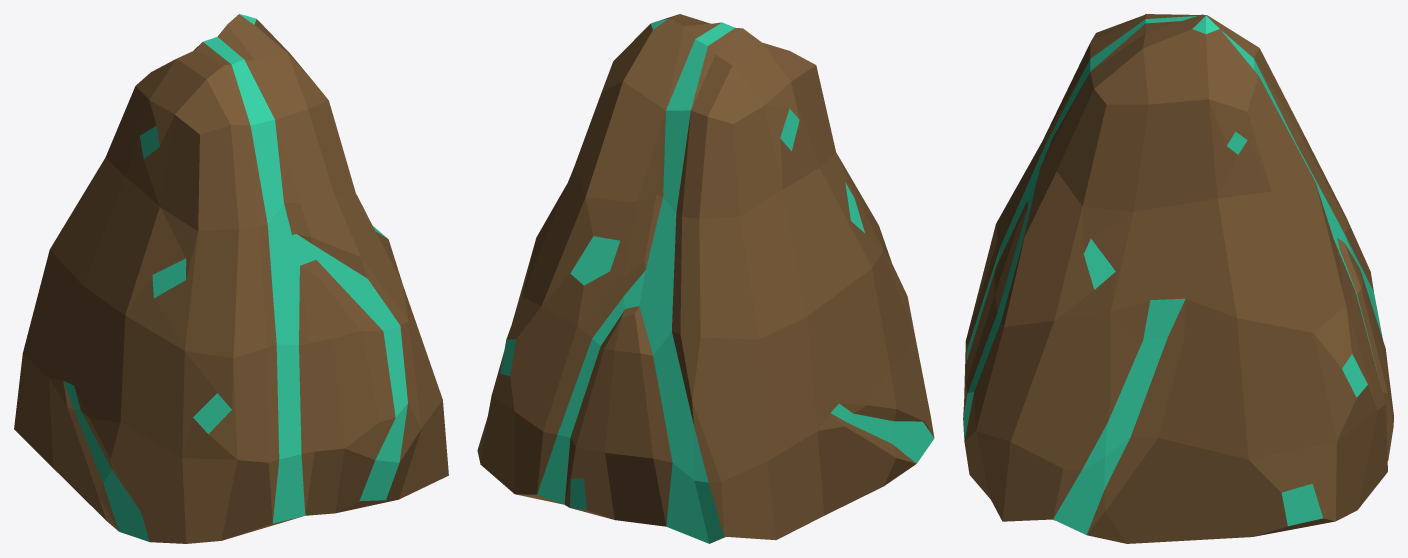
File: MalachiteRock.glb
3 views of the same model, side by side, from view 1: azimuth 30°, elevation 25°; view 2: azimuth 150°, elevation 25°; view 3: azimuth 270°, elevation 25° (orthographic). The views are drawn at different scales.
Visible parts, largest first — view 1: MalachiteRock; view 2: MalachiteRock; view 3: MalachiteRock.
Boxes of the visible parts, <box> form: MalachiteRock: <box>14,14,448,543</box>; MalachiteRock: <box>477,14,934,543</box>; MalachiteRock: <box>963,14,1393,543</box>.
Size of the model in its own units: 0.6998 by 0.9335 by 0.7637.
